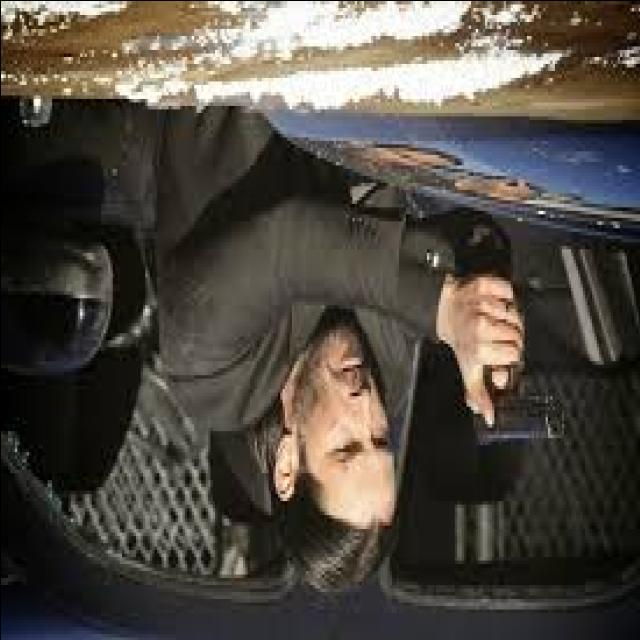weapons: (428, 296, 582, 491)
